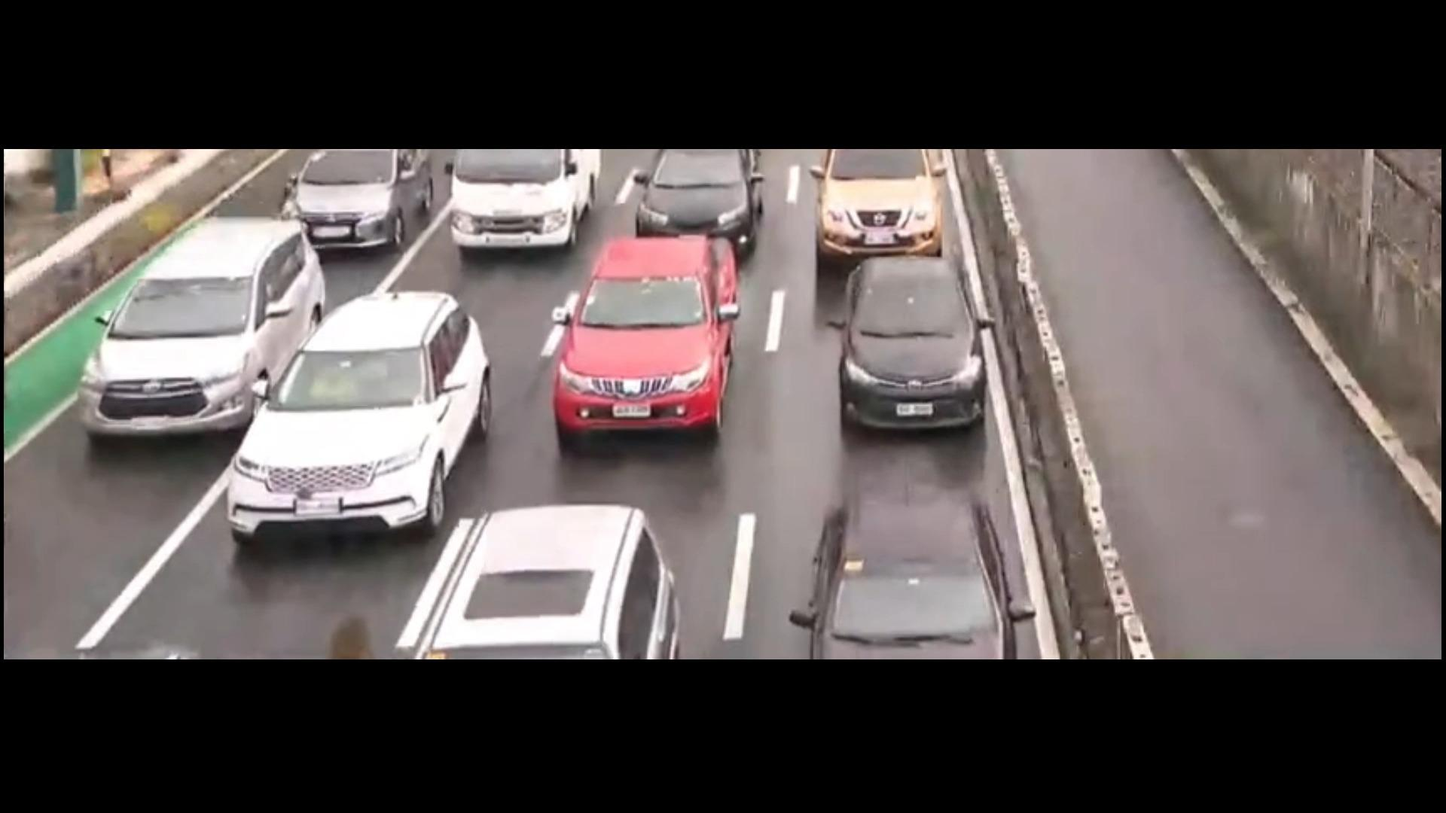Pickup: (503, 219, 767, 465)
SUV: (217, 288, 490, 525), (75, 213, 328, 438), (390, 499, 708, 655), (810, 145, 941, 263)
Sedan: (772, 484, 1039, 655), (817, 248, 992, 437), (267, 149, 442, 260), (635, 145, 772, 254)
Truck: (429, 149, 599, 262)
